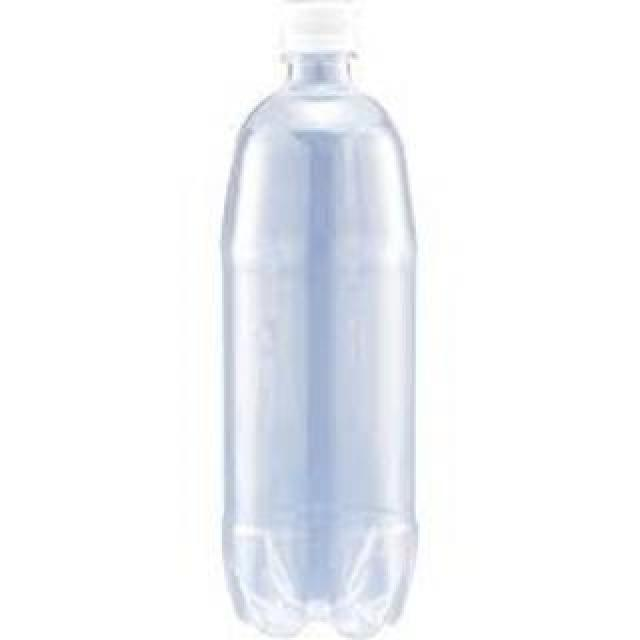Pet_Bottle: (216, 6, 424, 640)
